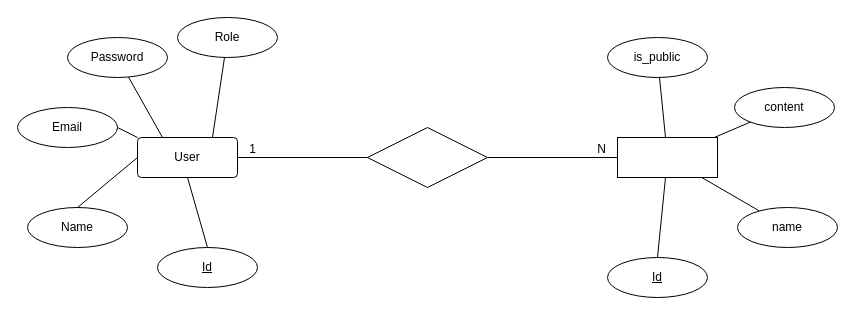
This 855x315 diagram has some shape labels left out. The centre of each missing label's shape, as x and y in pixels:
Own: the point at 427,157
Template: the point at 667,157
